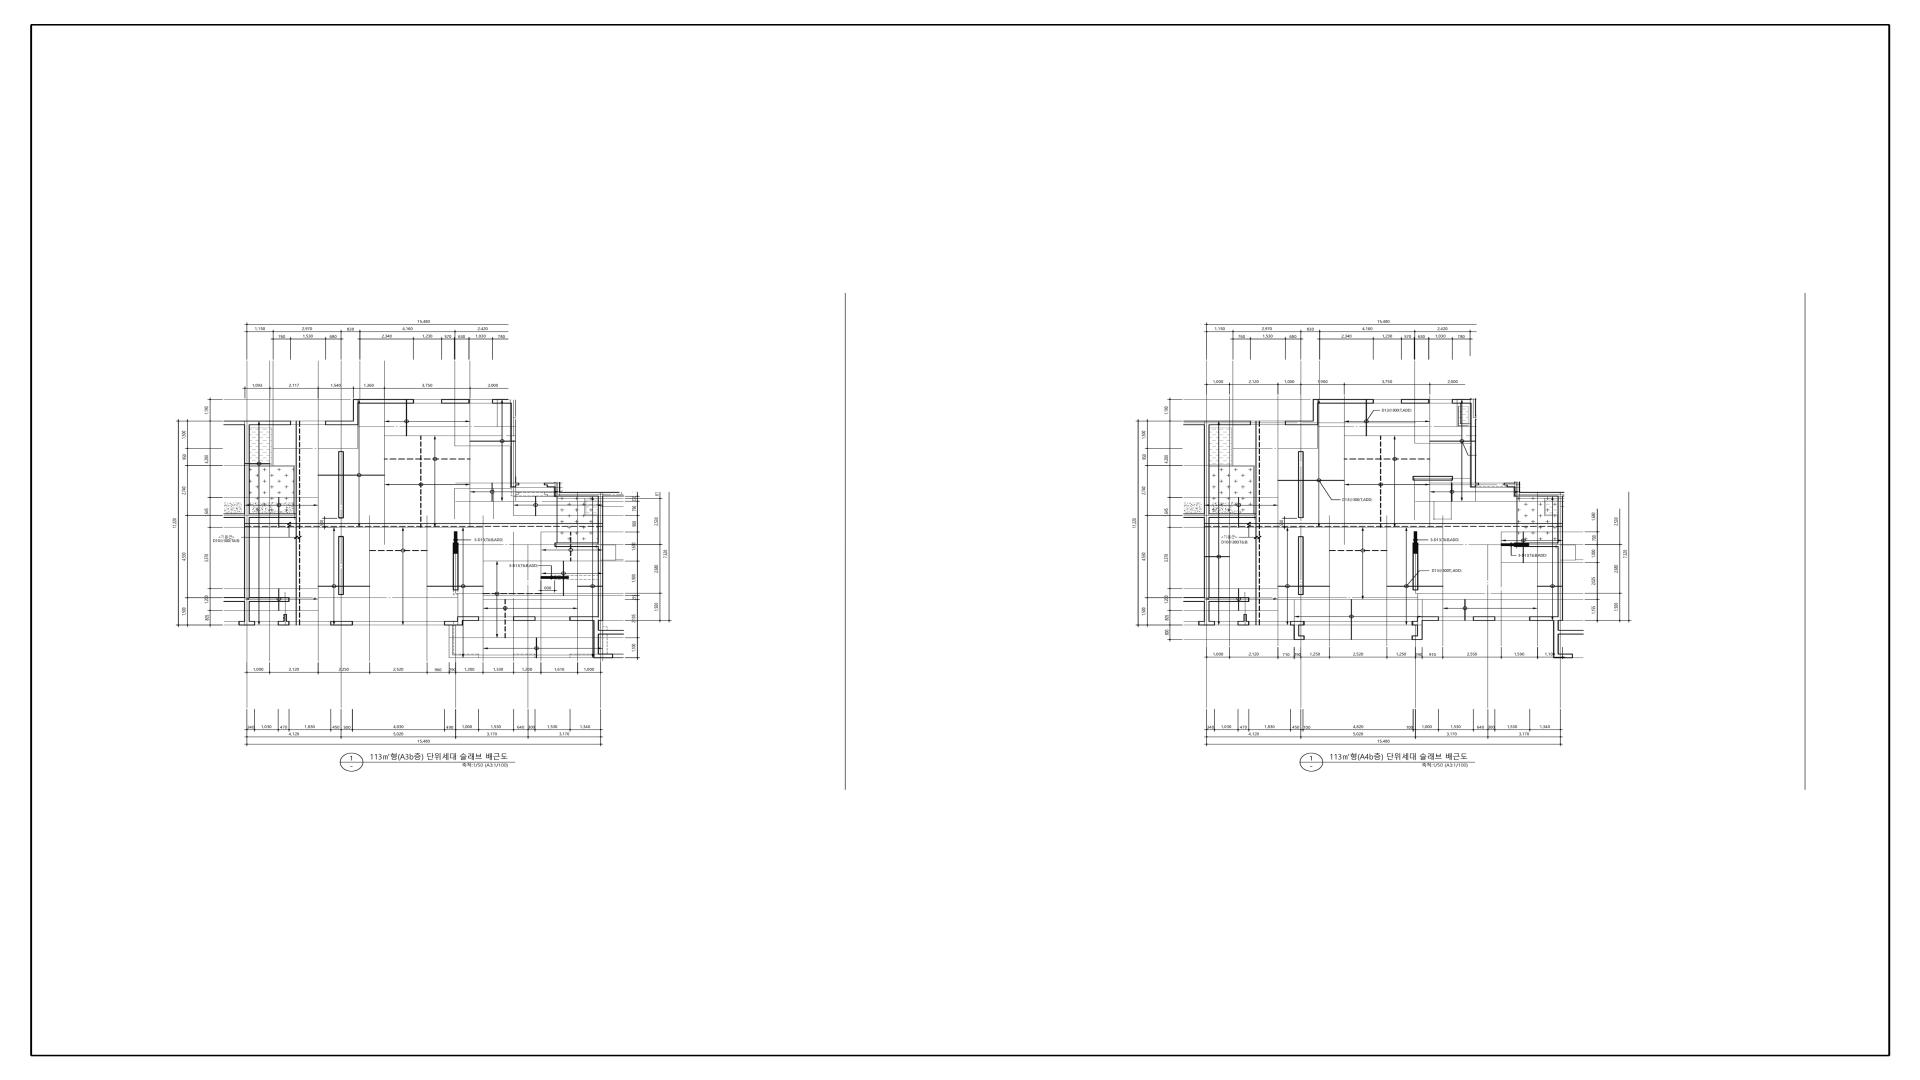wall: (295, 524, 604, 526), (1261, 524, 1563, 526), (510, 404, 517, 487), (295, 421, 301, 524), (1255, 421, 1261, 524), (295, 526, 301, 625), (1255, 526, 1261, 625), (1557, 526, 1563, 617), (244, 425, 249, 513), (1204, 425, 1209, 513), (1470, 398, 1476, 487), (338, 451, 344, 518), (1298, 451, 1304, 518), (1298, 537, 1304, 595), (244, 526, 249, 597), (1204, 526, 1209, 597), (452, 655, 593, 658), (597, 547, 603, 616), (339, 537, 344, 595), (555, 542, 604, 547), (249, 513, 295, 518), (452, 554, 459, 591), (1209, 513, 1255, 518), (1412, 554, 1419, 591), (555, 492, 597, 497), (359, 400, 414, 404), (1319, 400, 1374, 404), (249, 597, 290, 603), (1209, 597, 1249, 603), (1520, 492, 1557, 497), (1553, 621, 1559, 658), (593, 621, 599, 654), (249, 421, 291, 425), (1209, 421, 1251, 425), (1412, 476, 1453, 480), (1528, 542, 1557, 547), (1204, 524, 1261, 526), (597, 497, 603, 524), (1312, 400, 1319, 421), (1557, 497, 1563, 524), (244, 524, 295, 526), (1284, 421, 1319, 425), (326, 421, 359, 425), (448, 625, 452, 658), (570, 616, 593, 621), (223, 513, 244, 518), (353, 400, 359, 421), (603, 492, 624, 497), (1183, 597, 1204, 603), (1183, 513, 1204, 518), (442, 400, 469, 404), (1402, 400, 1429, 404), (244, 601, 249, 621), (224, 597, 244, 603), (597, 526, 604, 542), (599, 630, 624, 634), (1559, 630, 1584, 634), (1418, 621, 1423, 640), (1204, 603, 1209, 621), (1514, 481, 1520, 496), (492, 400, 516, 404), (1530, 617, 1553, 621), (331, 621, 353, 625), (513, 617, 535, 621), (1473, 617, 1495, 621), (458, 617, 479, 621), (1183, 421, 1204, 425), (1418, 617, 1439, 621), (224, 421, 244, 425), (593, 654, 613, 658), (1412, 542, 1419, 554), (1514, 542, 1528, 547), (444, 621, 463, 625), (541, 576, 568, 579), (1452, 400, 1470, 404), (452, 543, 459, 554), (239, 621, 255, 625), (1199, 621, 1215, 625), (1559, 654, 1573, 658), (1290, 621, 1304, 625), (593, 616, 604, 621), (1294, 625, 1299, 636), (555, 483, 560, 492), (278, 621, 290, 625), (543, 483, 555, 487), (454, 531, 458, 543), (1503, 483, 1514, 487), (1414, 531, 1418, 542), (1294, 636, 1304, 640), (1238, 621, 1249, 625), (1553, 617, 1563, 621), (1557, 492, 1564, 497), (1501, 543, 1514, 546), (244, 518, 249, 524), (244, 513, 249, 518), (244, 597, 249, 603), (597, 492, 603, 497), (1204, 597, 1209, 603), (1204, 518, 1209, 524), (1204, 513, 1209, 518), (284, 615, 287, 621), (1244, 615, 1247, 621), (244, 421, 249, 425), (1204, 421, 1209, 425), (1412, 621, 1418, 625), (1412, 636, 1418, 640), (516, 483, 520, 485), (1476, 483, 1480, 485)
